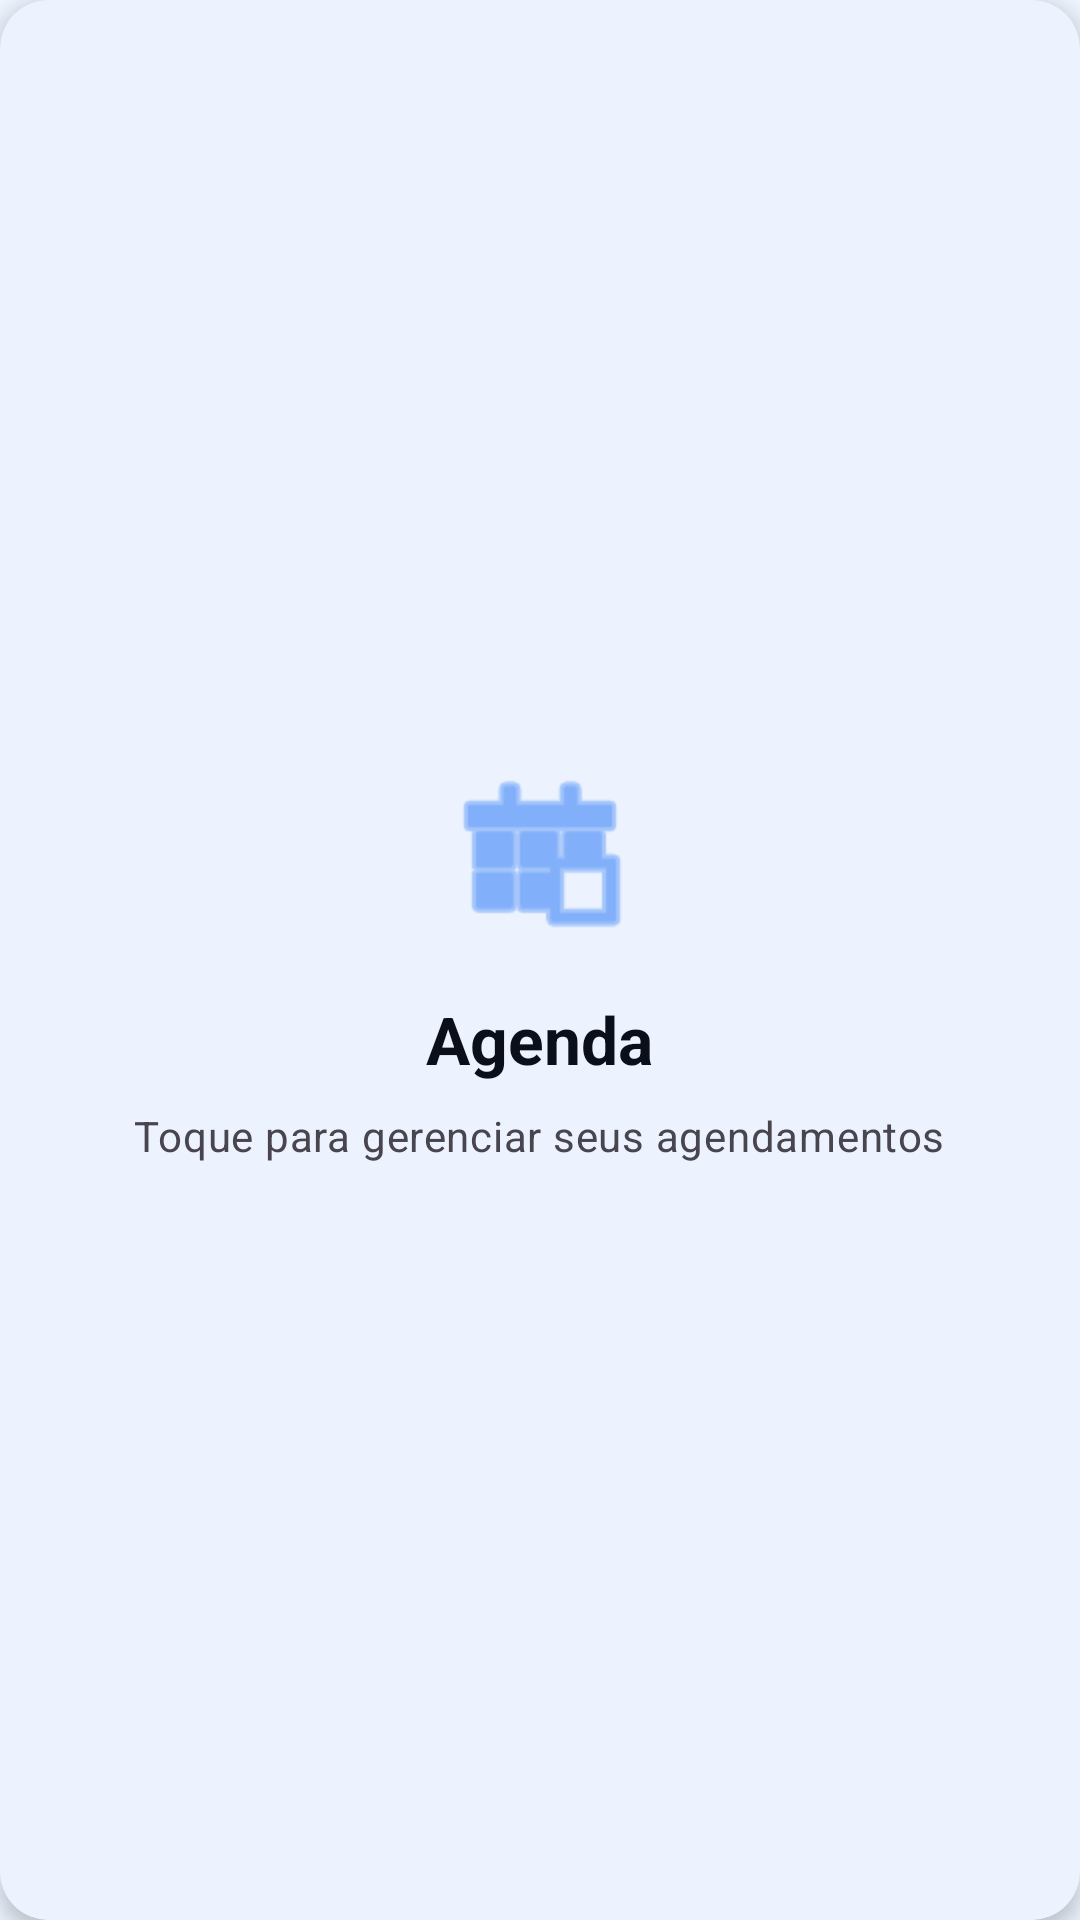

Icons on this 1080x1920 Android screen, each with its box as (x1, y1, x2, y2):
today: (463, 781, 621, 927)
